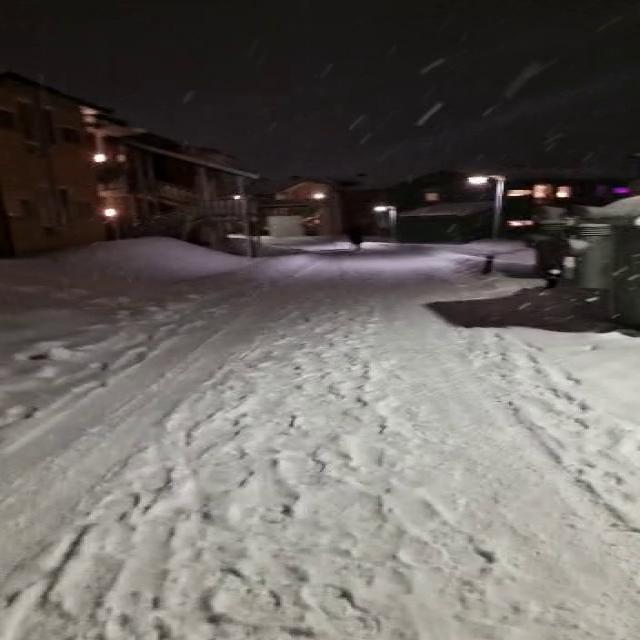path: (0, 237, 640, 640)
